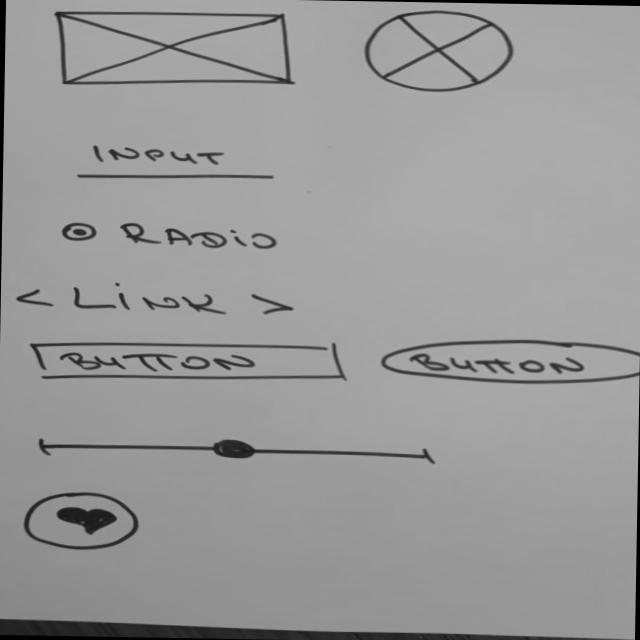button: (27, 336, 350, 386), (374, 334, 640, 388)
icon-button: (18, 487, 144, 553)
image: (50, 6, 296, 90), (358, 7, 516, 96)
input: (68, 138, 281, 185)
link: (12, 274, 296, 320)
radio: (55, 218, 282, 255)
slider: (27, 432, 442, 466)
